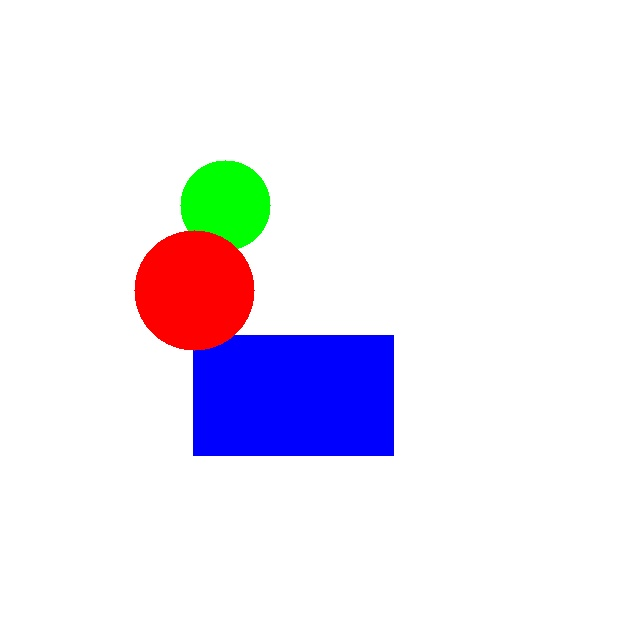cartao: (193, 335, 393, 455)
rosca_externa: (180, 160, 270, 250)
rosca_interna: (134, 230, 254, 350)
